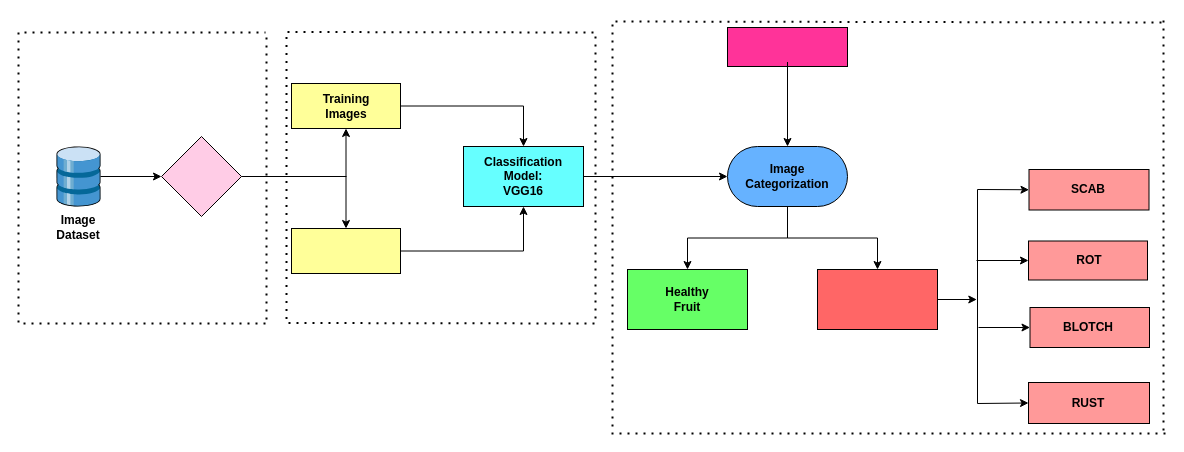
Image size: 1184x452. Some labels were removed from this diagram. The shapes that lost their labels are listed below. From the top down, each one's box as (x1, y1, x2, y2) in pixels, then its label:
(726, 26, 848, 66): Input Images
(160, 136, 242, 216): Image dataset Split
(290, 228, 400, 274): Testing Images
(816, 268, 938, 330): Diseased Fruit
